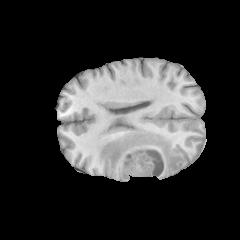glioma: (99, 129, 186, 180)
